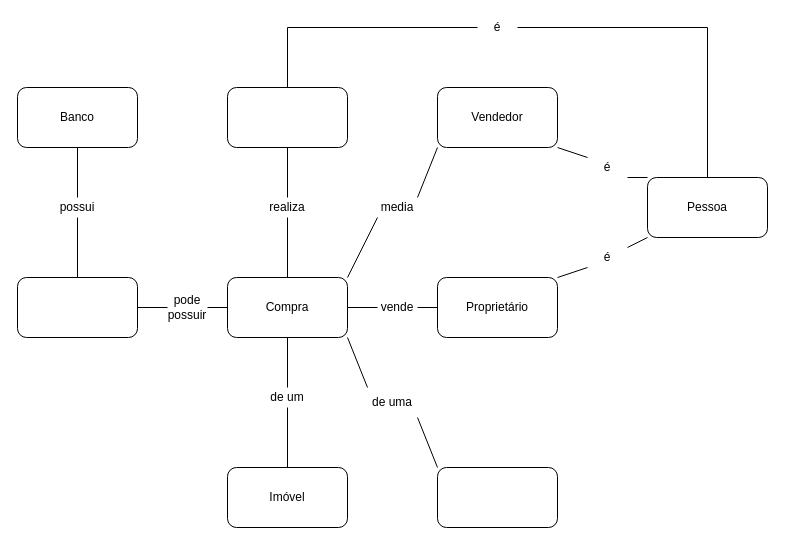
The diagram is 785 pixels wide and 545 high, and some of its shapes have lost their labels. Here are the shapes that lost their labels. From the top down, the centre of each, then its label:
At pixel 287 117: "Cliente".
At pixel 77 307: "Financiamento".
At pixel 497 497: "Gasto pré-venda".
